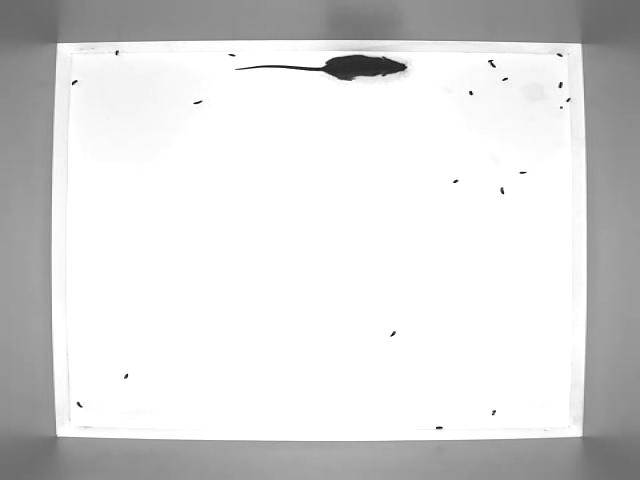Tikus: (230, 53, 420, 81)
